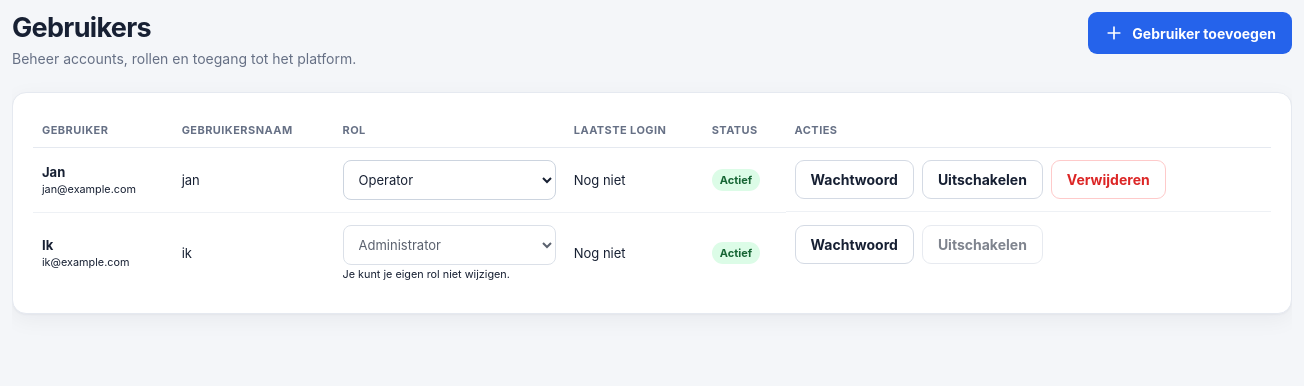
rollen en wachtwoord in de interface › toont de Nederlandse serverfout bij een geweigerde verwijdering
Expected: the text "Jan" is shown, [42,164,65,180]
What coordinates should you click on to do the following:
click the button with aria-label "Gebruiker Jan verwijderen"
I would click on:
 (1108, 180)
Its box is [1051,160,1166,199].
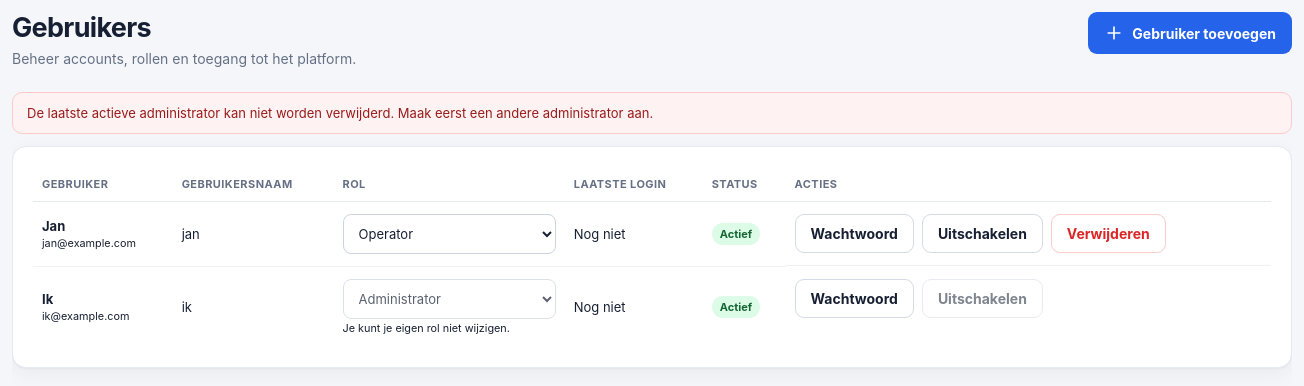
Result: the text "De laatste actieve administrator kan niet worden verwijderd" is shown at [27,105,653,121]
